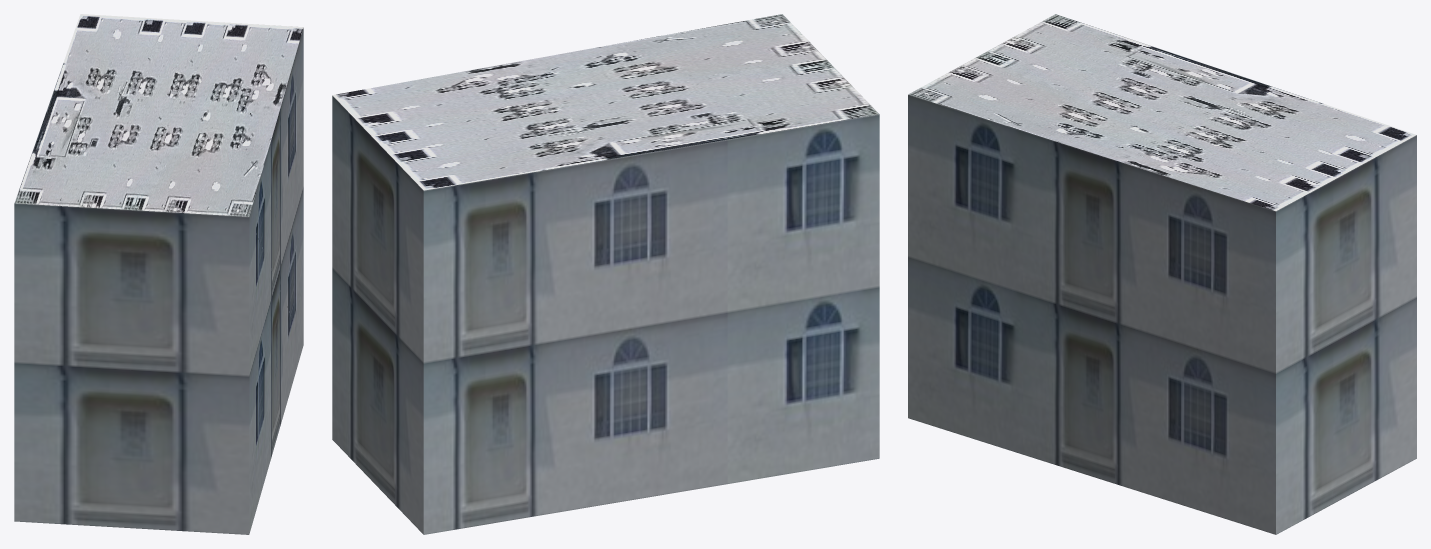
File: ResTex__1088.fbx
3 views of the same model, side by side, from view 1: azimuth 30°, elevation 25°; view 2: azimuth 150°, elevation 25°; view 3: azimuth 270°, elevation 25° (orthographic). The views are drawn at different scales.
Parts seen in each view (by area): view 1: CityEngineMaterial_17_m, CityEngineMaterial_m; view 2: CityEngineMaterial_17_m, CityEngineMaterial_m; view 3: CityEngineMaterial_17_m, CityEngineMaterial_m.
Boxes of the visible parts, left/top/right/bottom form: CityEngineMaterial_17_m: left=14, top=28, right=303, bottom=534; CityEngineMaterial_m: left=14, top=14, right=303, bottom=216; CityEngineMaterial_17_m: left=332, top=96, right=879, bottom=534; CityEngineMaterial_m: left=332, top=14, right=879, bottom=190; CityEngineMaterial_17_m: left=908, top=94, right=1416, bottom=534; CityEngineMaterial_m: left=908, top=14, right=1416, bottom=211.
Bounding box in the file's own units: 7.85 × 6 × 8.55.
2 materials, 2 textured.
